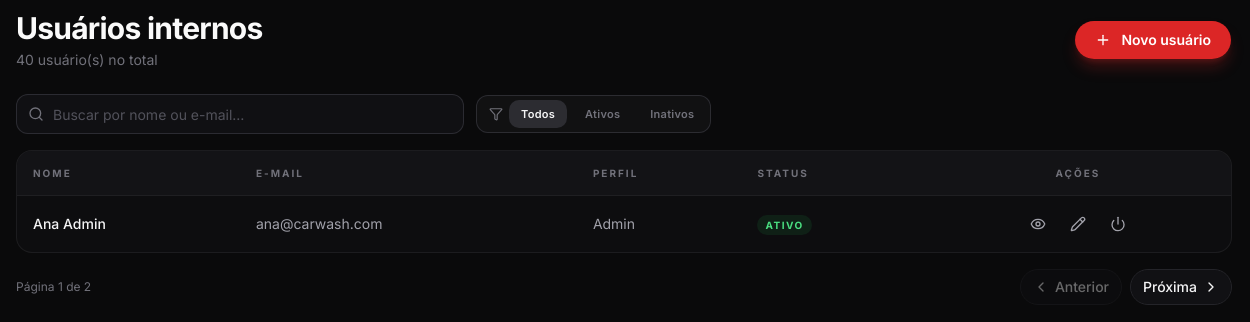
it: UsuariosListaPage (RF014) — paginação › 5. Anterior desabilitado na pág. 1; Próxima navega para pág. 2 (param `pagina`)
Expected: the text "Ana Admin" is shown, [33, 215, 106, 232]
Expected: the text "Página 1 de 2" is shown, [16, 279, 91, 295]
Click the button "Próxima" at coordinates (1181, 287), box [1130, 269, 1232, 305]
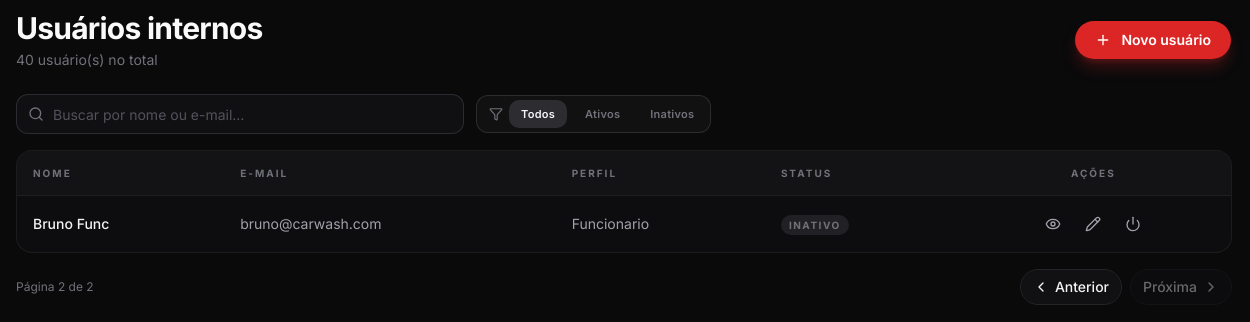
Expected: the text "Bruno Func" is shown, [33, 215, 109, 232]
Expected: the text "Página 2 de 2" is shown, [16, 279, 94, 295]
Expected: the button "Anterior" is enabled, [1020, 269, 1122, 305]
